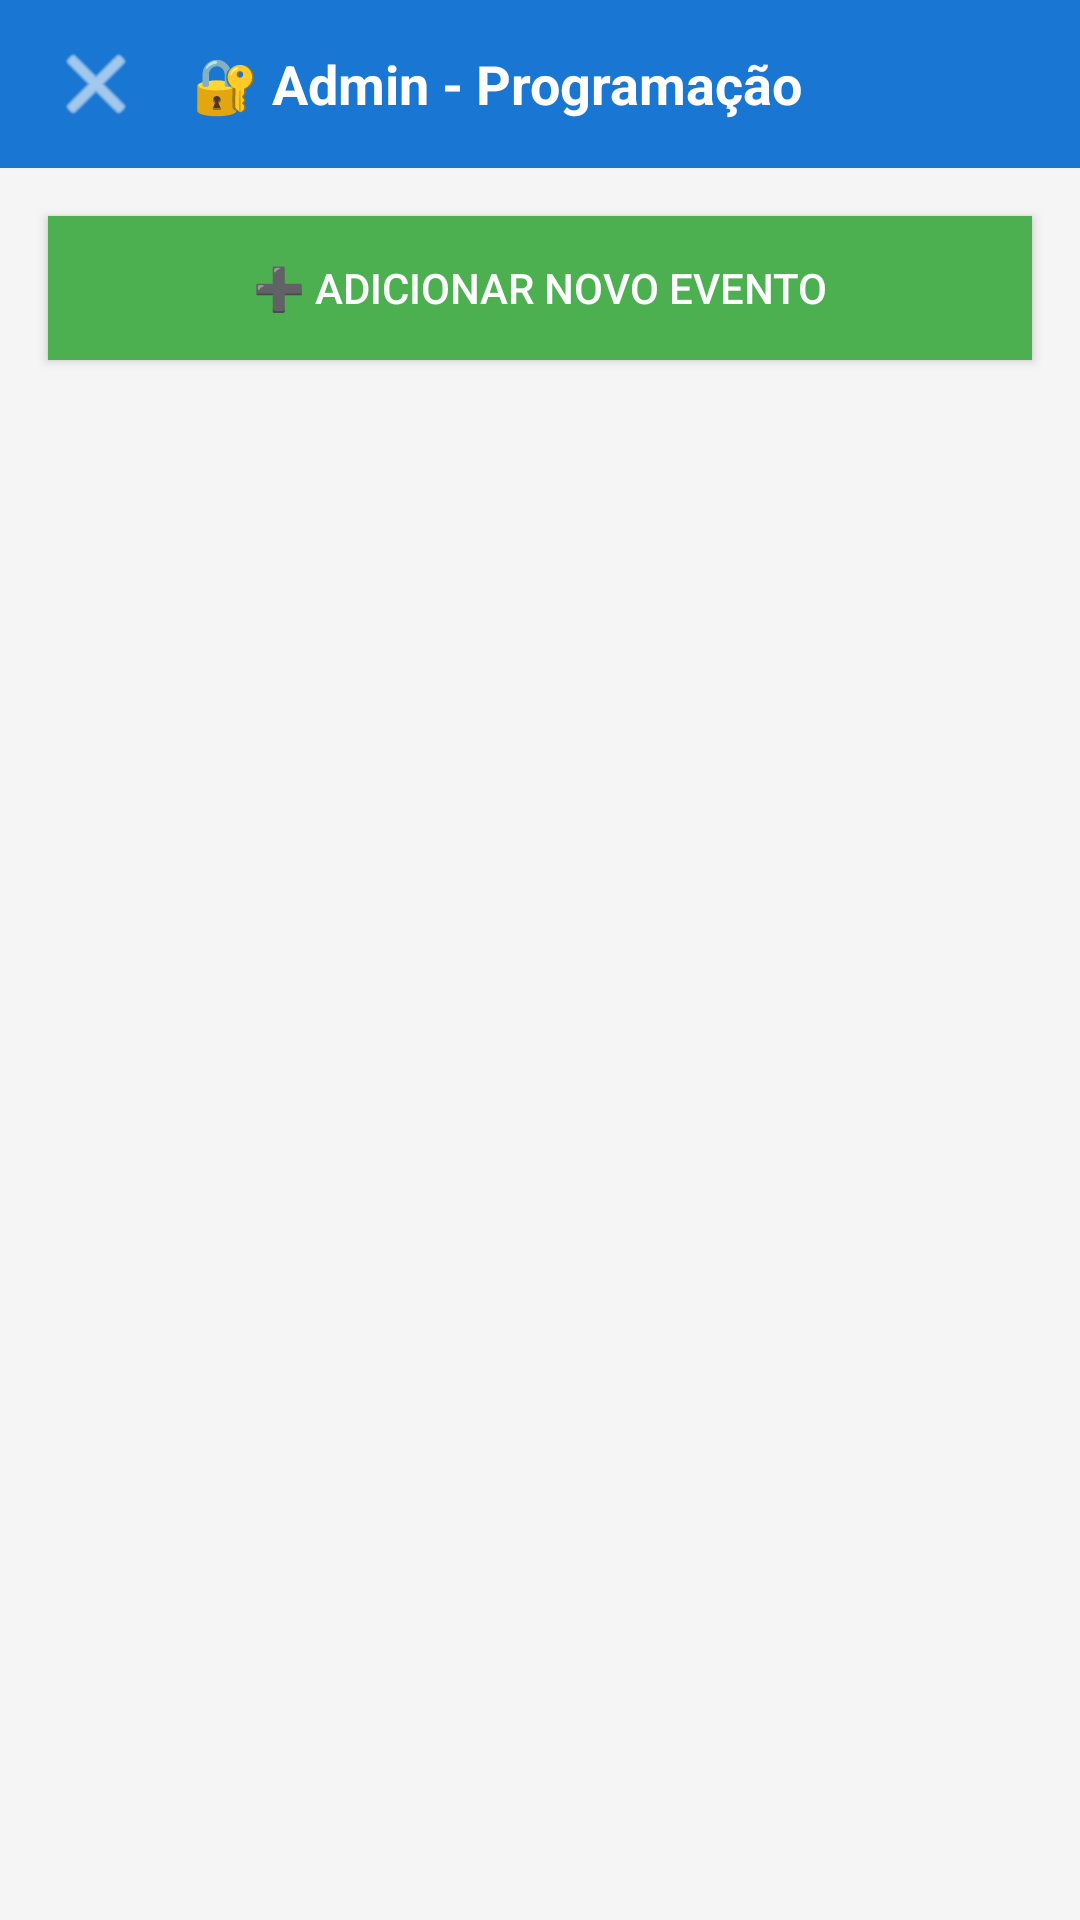

Point at icon controls on the screen. Image size 1080px×1920px, points as point (x, y).
close clear cancel: point (96, 84)
